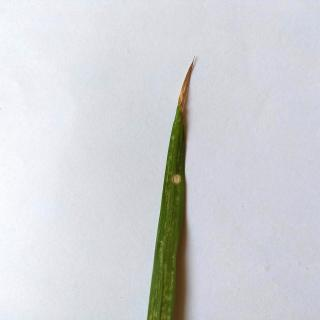Blast: (168, 163, 190, 191)
